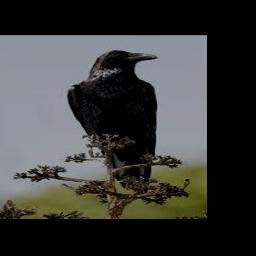Crow: (68, 50, 158, 195)
